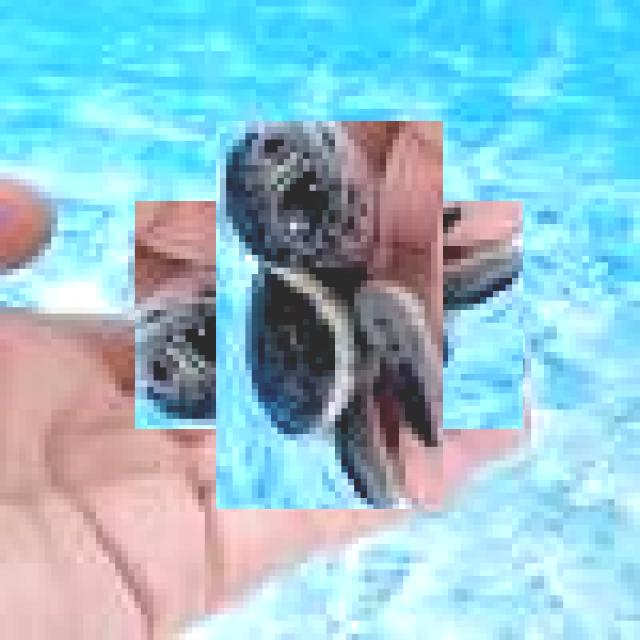Sea turtle: (175, 161, 483, 469)
